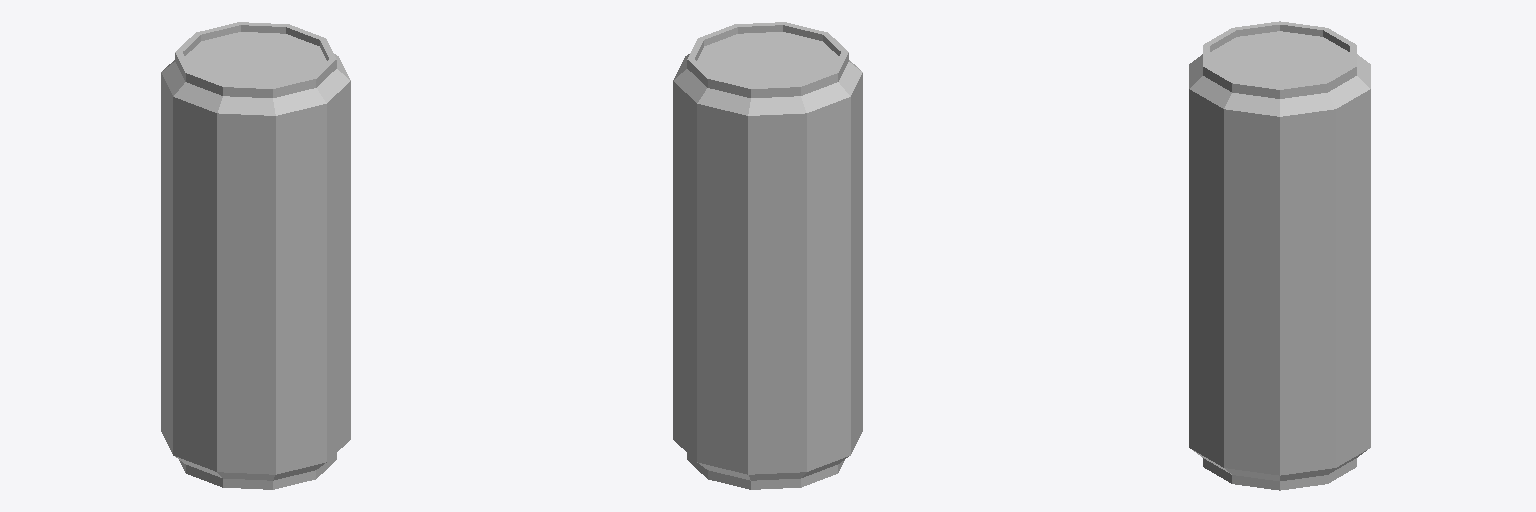
File: энергетик.obj
3 views of the same model, side by side, from view 1: azimuth 30°, elevation 25°; view 2: azimuth 150°, elevation 25°; view 3: azimuth 270°, elevation 25° (orthographic).
Parts seen in each view (by area): view 1: ??????4; view 2: ??????4; view 3: ??????4.
Part boxes in pixels (x1,y1,x2,y2): ??????4: (161, 22, 350, 489); ??????4: (673, 22, 862, 489); ??????4: (1189, 21, 1370, 490).
Bounding box in the file's own units: 5.24 × 12.16 × 4.99.